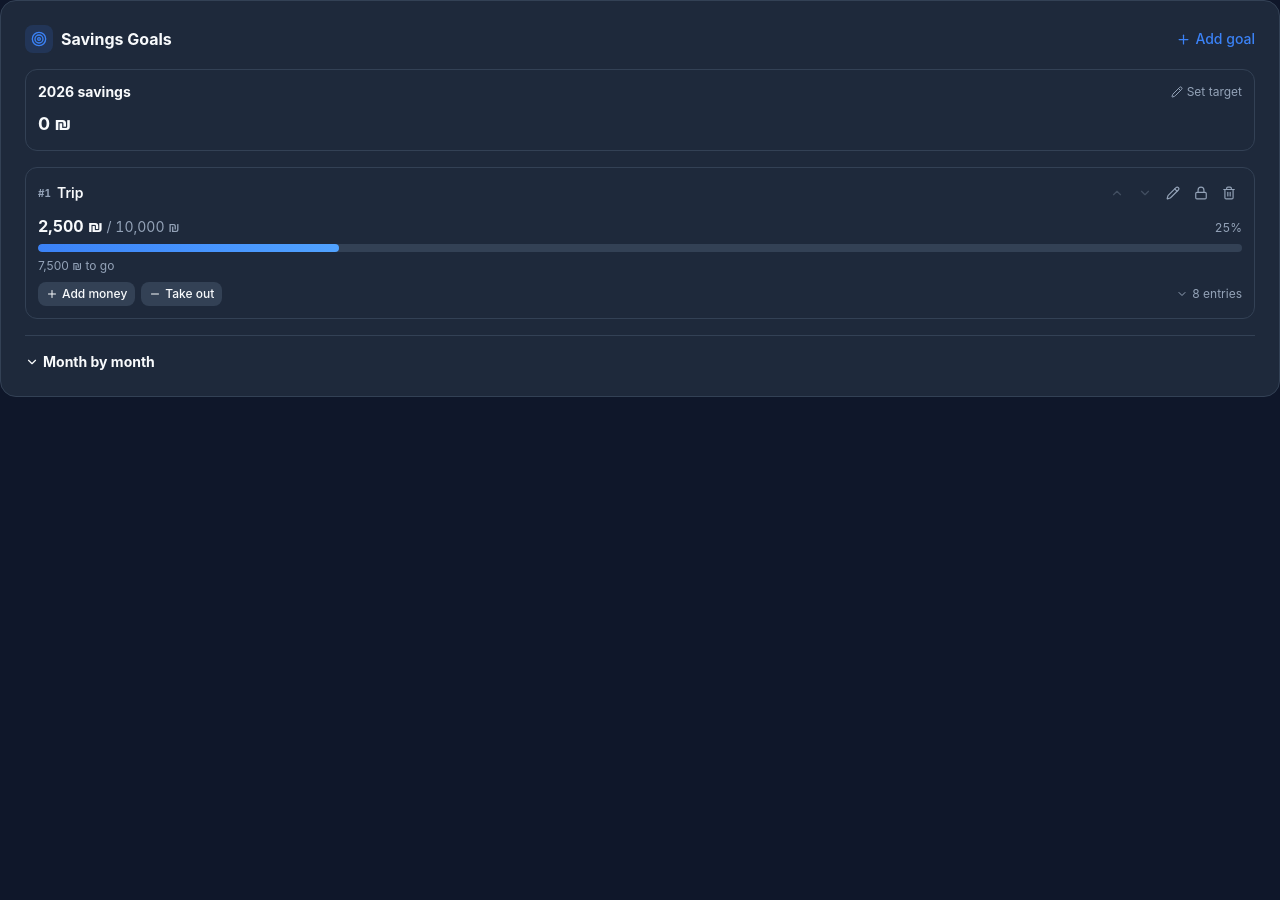
Scenario: GoalsSection › entries › show five at first and the rest on request
Expected: the text "Trip" is shown, 57,183 -> 84,203
Step 1. Click the button "8 entries" → click(1209, 294), box 1176,286 -> 1242,302
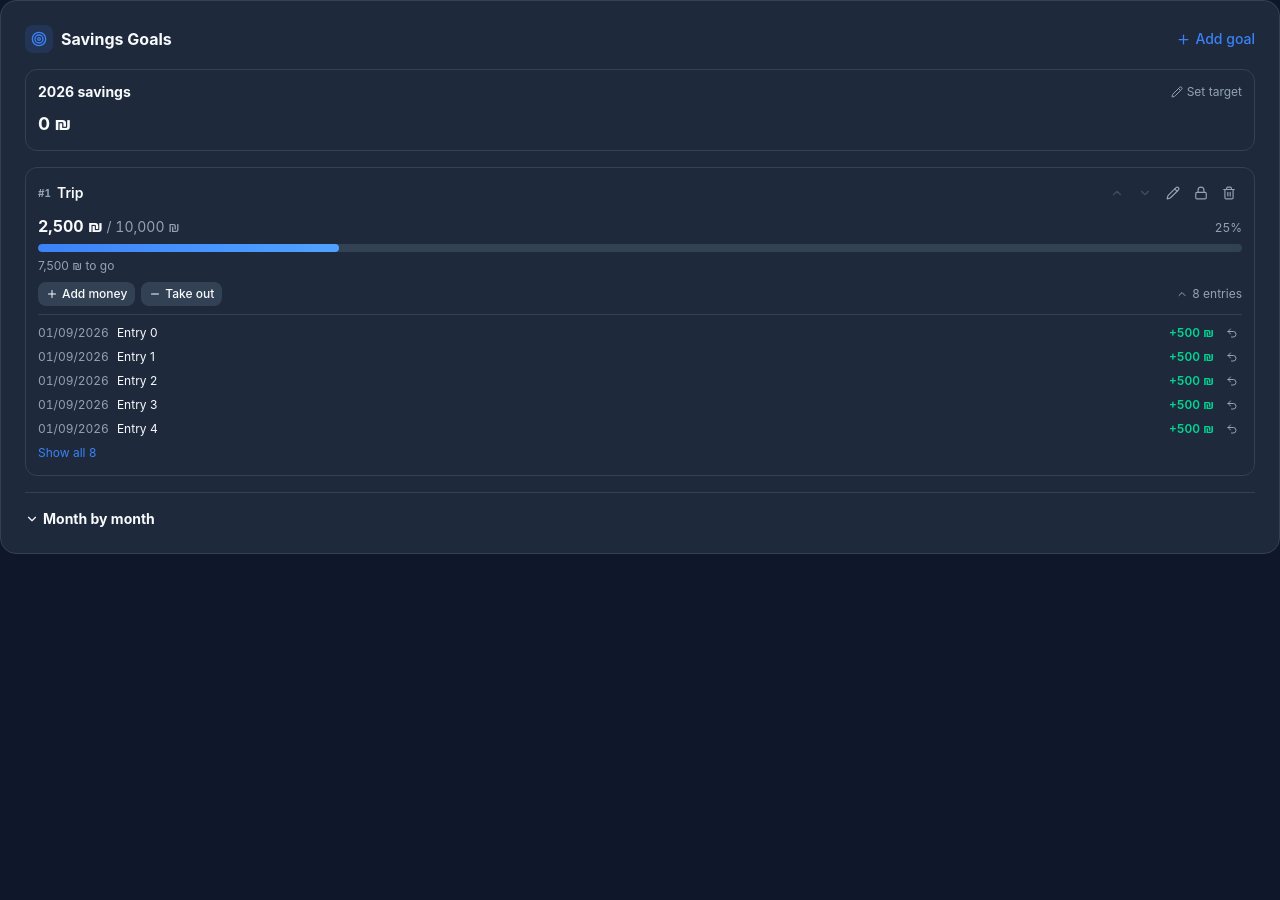
Result: the number of list items with test id "goal-entry" is 5 at 38,323 -> 1242,343; 38,347 -> 1242,367; 38,371 -> 1242,391; 38,395 -> 1242,415; 38,419 -> 1242,439
Step 2. Click the button "Show all 8" → click(67, 453), box 38,445 -> 96,461
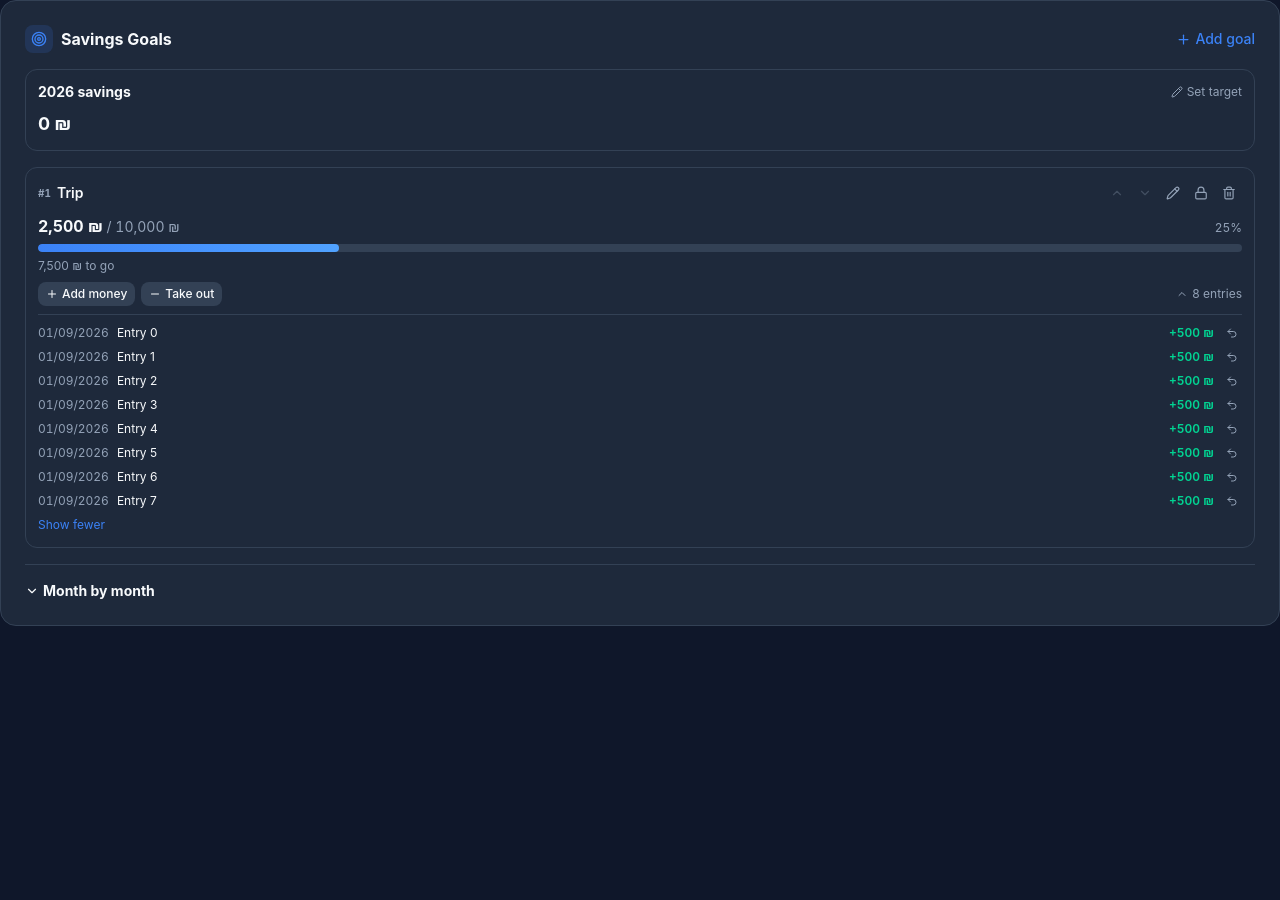
Result: the number of list items with test id "goal-entry" is 8
